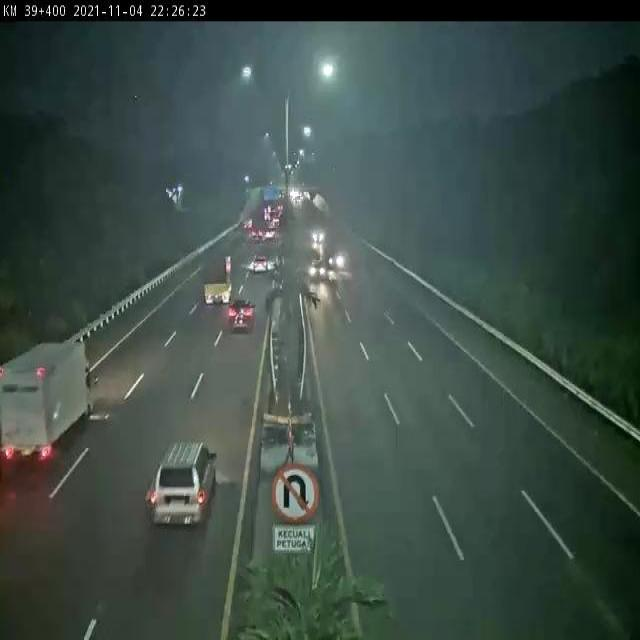car: (149, 440, 217, 532), (228, 299, 254, 333), (325, 248, 346, 271), (308, 260, 325, 279), (310, 224, 325, 243), (253, 253, 268, 272), (251, 224, 263, 241), (265, 225, 276, 239)
truck-l-: (0, 340, 95, 469)
truck-m-: (203, 253, 230, 300)
